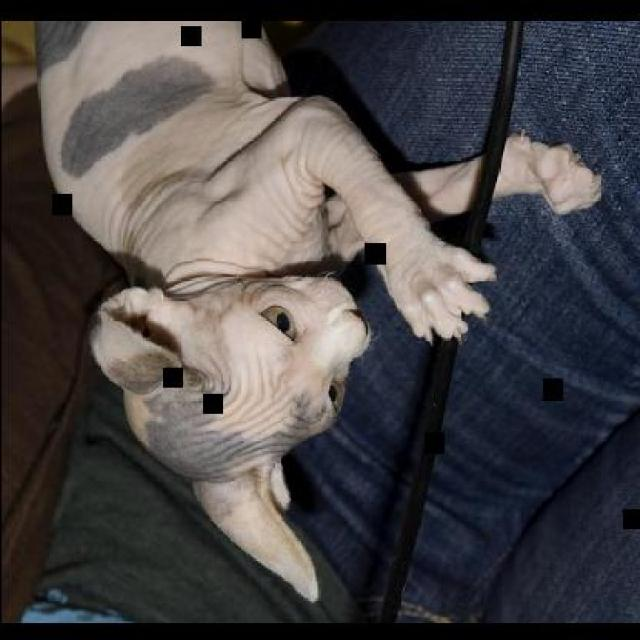unauthorized: (32, 19, 602, 603)
